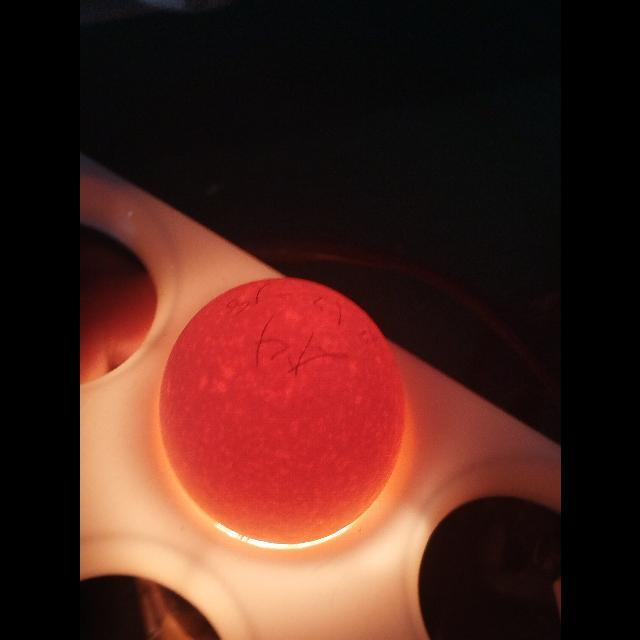Infertile: (168, 274, 398, 530)
